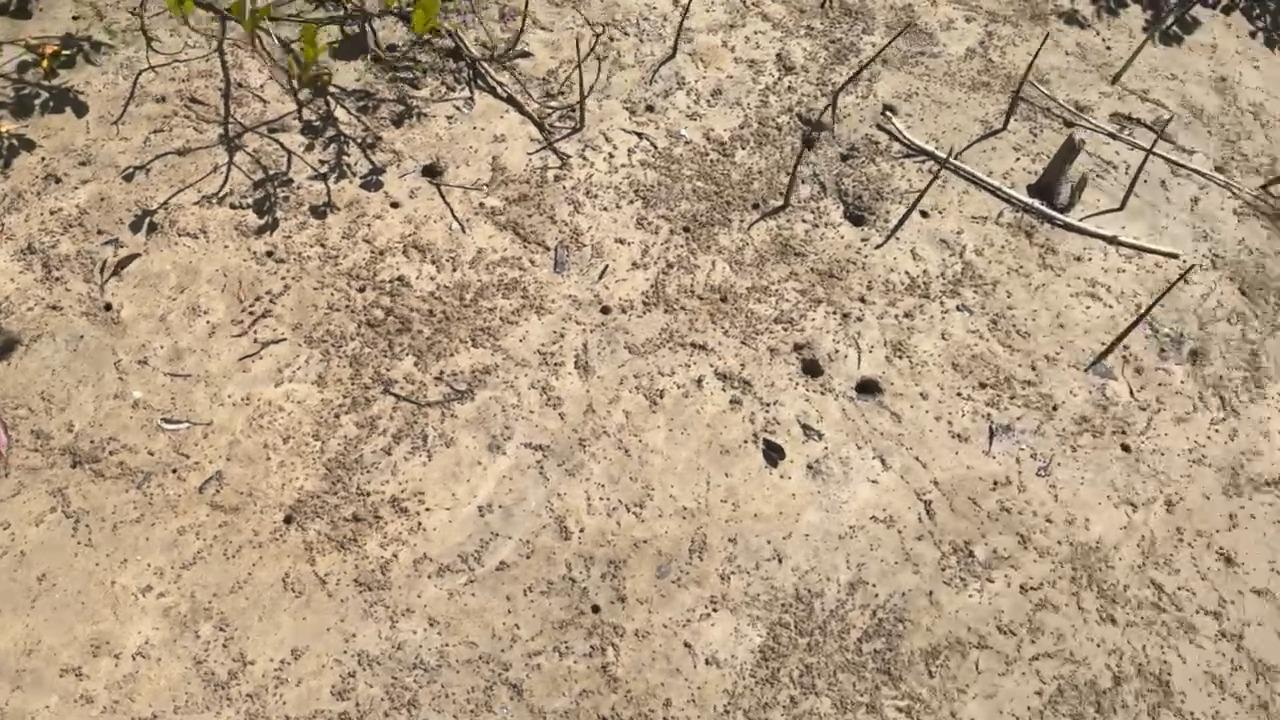Tree: (1108, 263, 1196, 350), (833, 22, 912, 100), (1118, 114, 1175, 211), (782, 103, 833, 207), (895, 144, 953, 232), (1002, 31, 1050, 129), (1111, 24, 1164, 86), (672, 0, 692, 58), (575, 36, 586, 128)
